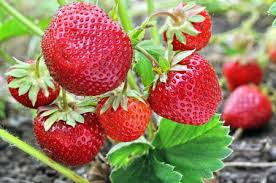ripe: (41, 10, 133, 95), (132, 44, 225, 127), (30, 98, 108, 171), (92, 83, 154, 147), (12, 56, 61, 110), (158, 10, 218, 52), (223, 89, 273, 139), (222, 52, 263, 94)
